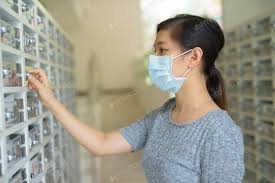with-mask: (142, 13, 225, 103)
